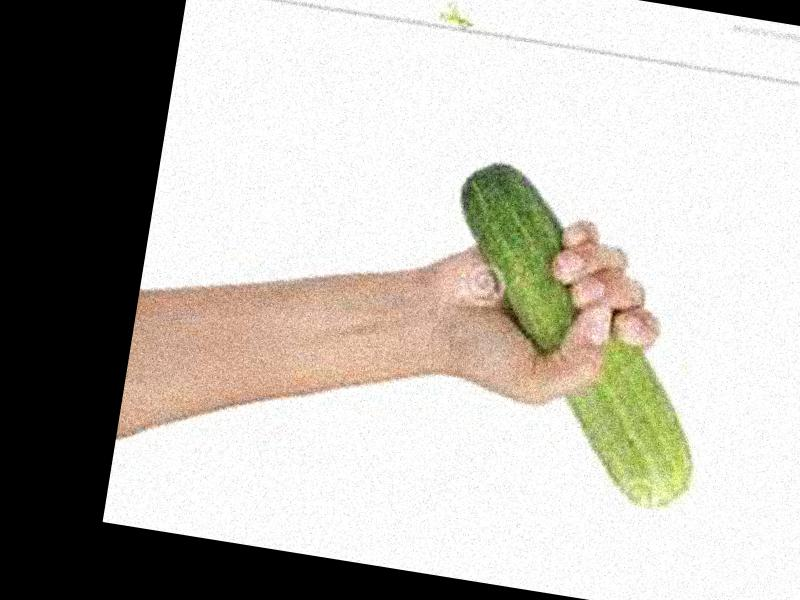Cucumber: (410, 156, 734, 510)
